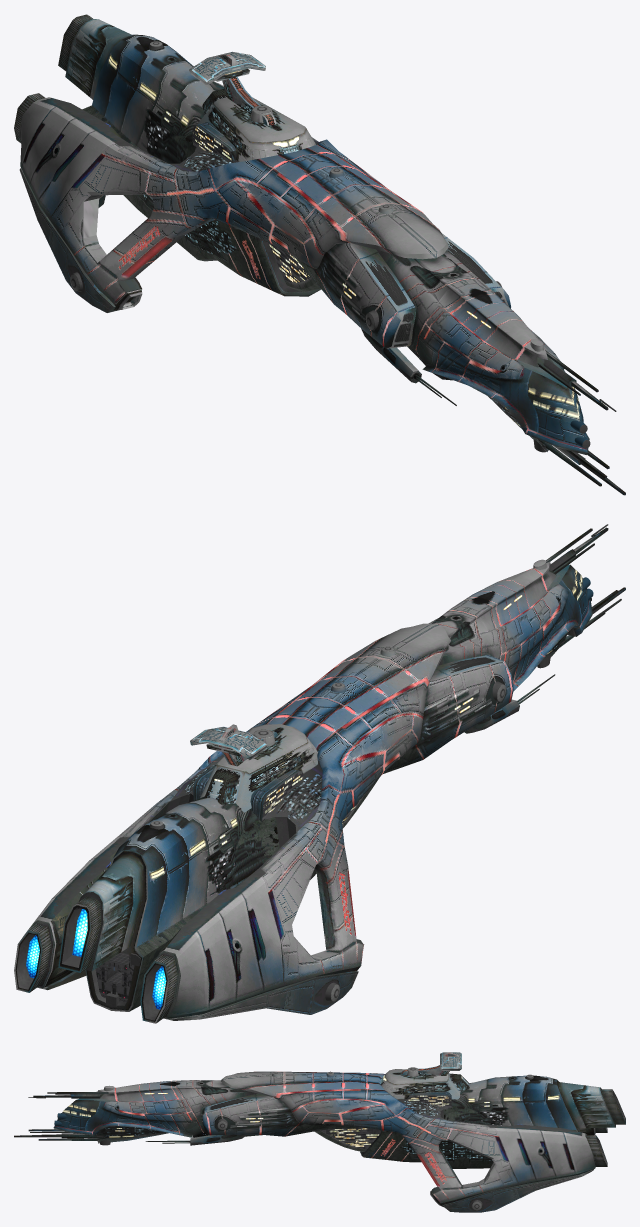
3 renders of one model, top to bottom at view 1: azimuth 30°, elevation 25°; view 2: azimuth 150°, elevation 25°; view 3: azimuth 270°, elevation 25°, orthographic. The views are drawn at different scales.
Parts seen in each view (by area): view 1: Mesh_0010_Tex_0016_0.dds_0, Mesh_0012_Tex_0023_0.dds_0, Mesh_0013_Tex_0027_0.dds_0; view 2: Mesh_0010_Tex_0016_0.dds_0, Mesh_0012_Tex_0023_0.dds_0, Mesh_0011_Tex_0020_0.dds_0, Mesh_0016_Tex_0038_0.dds_0, Mesh_0013_Tex_0027_0.dds_0; view 3: Mesh_0010_Tex_0016_0.dds_0, Mesh_0012_Tex_0023_0.dds_0, Mesh_0013_Tex_0027_0.dds_0, Mesh_0011_Tex_0020_0.dds_0, Mesh_0014_Tex_0031_0.dds_0.
Part boxes in pixels (left/top/right/bottom): Mesh_0010_Tex_0016_0.dds_0: left=19, top=34, right=625, bottom=495; Mesh_0012_Tex_0023_0.dds_0: left=14, top=14, right=567, bottom=387; Mesh_0013_Tex_0027_0.dds_0: left=164, top=70, right=507, bottom=409; Mesh_0010_Tex_0016_0.dds_0: left=24, top=524, right=625, bottom=1020; Mesh_0012_Tex_0023_0.dds_0: left=14, top=564, right=569, bottom=1023; Mesh_0011_Tex_0020_0.dds_0: left=16, top=655, right=550, bottom=1020; Mesh_0016_Tex_0038_0.dds_0: left=95, top=955, right=134, bottom=1002; Mesh_0013_Tex_0027_0.dds_0: left=214, top=594, right=522, bottom=845; Mesh_0010_Tex_0016_0.dds_0: left=14, top=1052, right=595, bottom=1212; Mesh_0012_Tex_0023_0.dds_0: left=76, top=1052, right=625, bottom=1206; Mesh_0013_Tex_0027_0.dds_0: left=115, top=1076, right=489, bottom=1148; Mesh_0011_Tex_0020_0.dds_0: left=54, top=1076, right=625, bottom=1206; Mesh_0014_Tex_0031_0.dds_0: left=217, top=1067, right=533, bottom=1210.
Size of the model in its own units: 1.37 by 1.14 by 5.
7 materials, 7 textured.
